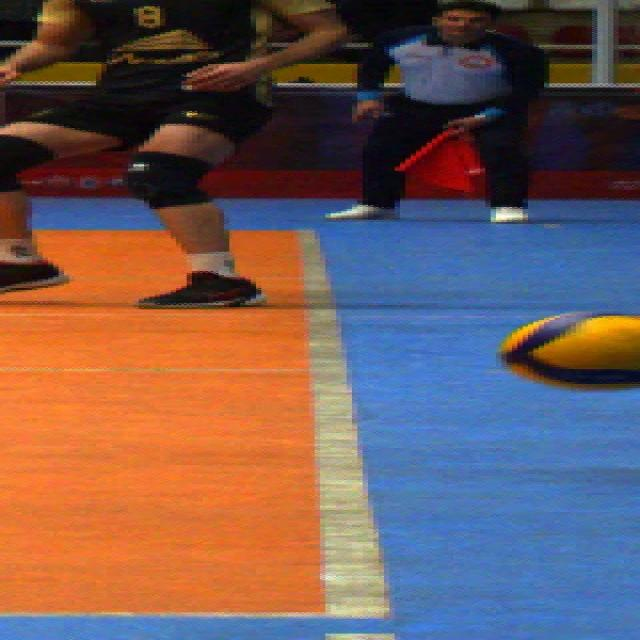Volleyball: (498, 311, 640, 390)
